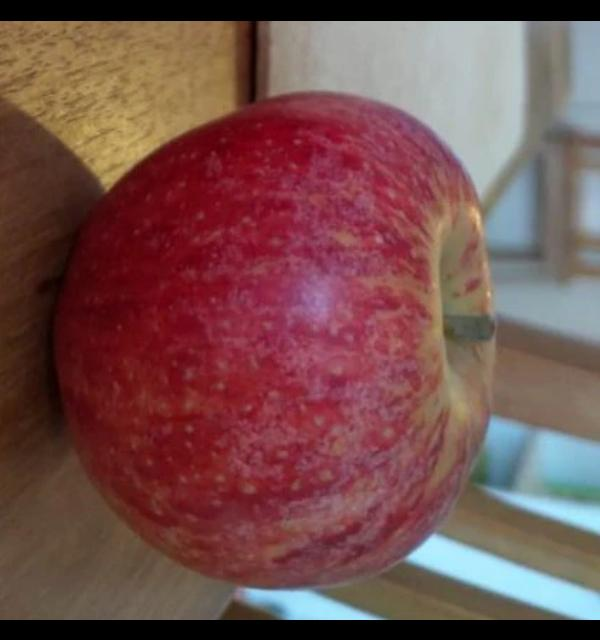Apples: (52, 90, 498, 588)
